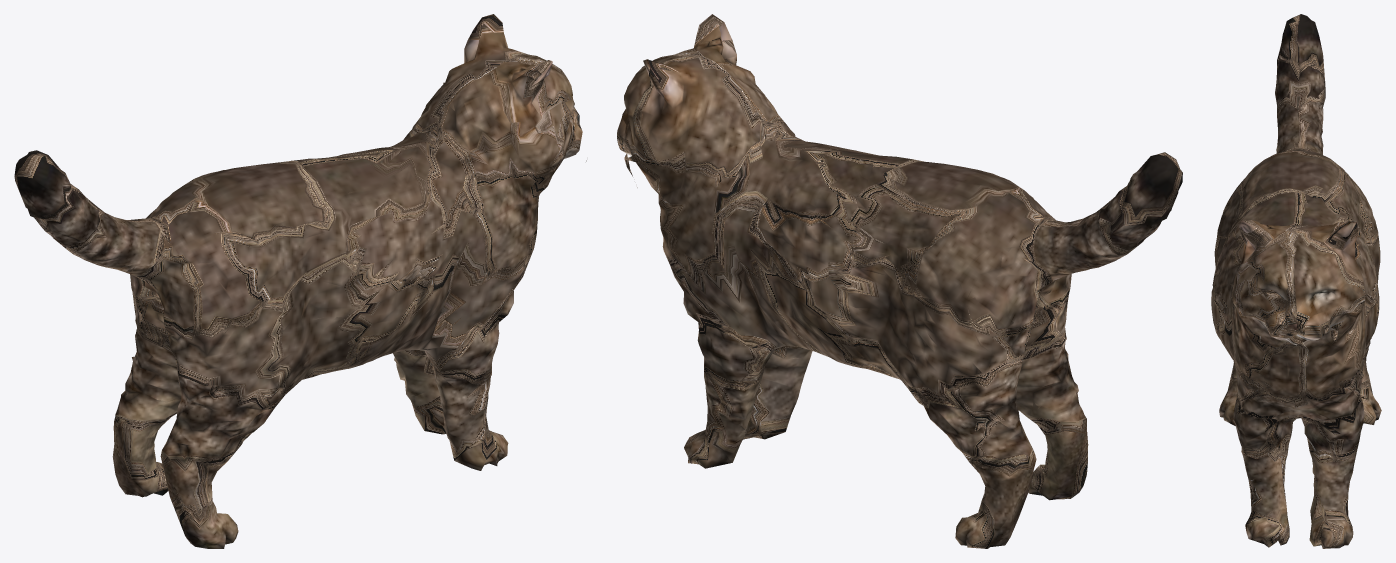
The model's file is MRBCHONK-lo.glb.
The picture shows the model from 3 angles, left to right: view 1: azimuth 30°, elevation 25°; view 2: azimuth 150°, elevation 25°; view 3: azimuth 270°, elevation 25°; orthographic projection. The views are drawn at different scales.
Parts seen in each view (by area): view 1: tripo_node_809ce658-2838-48d9-9d85-80120ff156c4; view 2: tripo_node_809ce658-2838-48d9-9d85-80120ff156c4; view 3: tripo_node_809ce658-2838-48d9-9d85-80120ff156c4.
Part boxes in pixels (x1,y1,x2,y2): tripo_node_809ce658-2838-48d9-9d85-80120ff156c4: (14,14,586,548); tripo_node_809ce658-2838-48d9-9d85-80120ff156c4: (617,14,1182,548); tripo_node_809ce658-2838-48d9-9d85-80120ff156c4: (1211,14,1381,548).
Bounding box in the file's own units: 1.47 × 0.9971 × 0.4483.
Materials: 1 (1 with a texture image).
